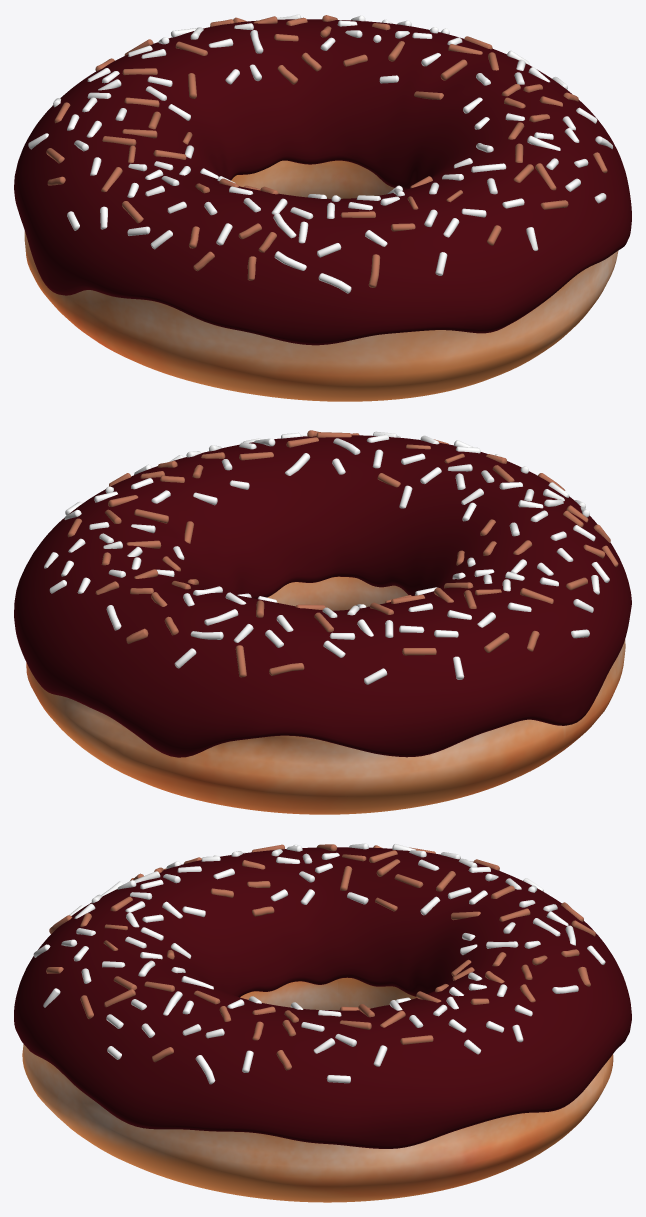
3 views of the same model, one above another, from view 1: azimuth 30°, elevation 25°; view 2: azimuth 150°, elevation 25°; view 3: azimuth 270°, elevation 25° (orthographic). The views are drawn at different scales.
Parts seen in each view (by area): view 1: Icing, Donut, sprinkles; view 2: Icing, Donut, sprinkles; view 3: Icing, Donut, sprinkles.
Boxes of the visible parts, x1,y1,x2,y2 form: Icing: (14, 19, 631, 345); Donut: (24, 160, 618, 401); sprinkles: (28, 14, 612, 293); Icing: (14, 435, 631, 757); Donut: (26, 576, 625, 814); sprinkles: (44, 430, 618, 684); Icing: (14, 847, 631, 1148); Donut: (22, 977, 613, 1202); sprinkles: (33, 843, 605, 1084).
Bounding box in the file's own units: 0.1169 × 0.0404 × 0.1222.
4 materials, 1 textured.
